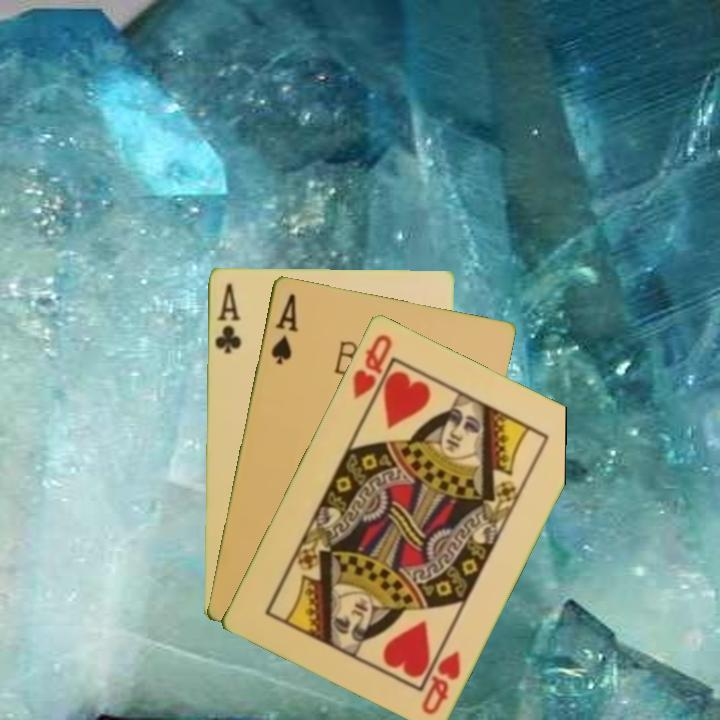Ac: (211, 279, 244, 356)
As: (267, 289, 300, 367)
Qh: (348, 330, 395, 402), (418, 646, 464, 717)
